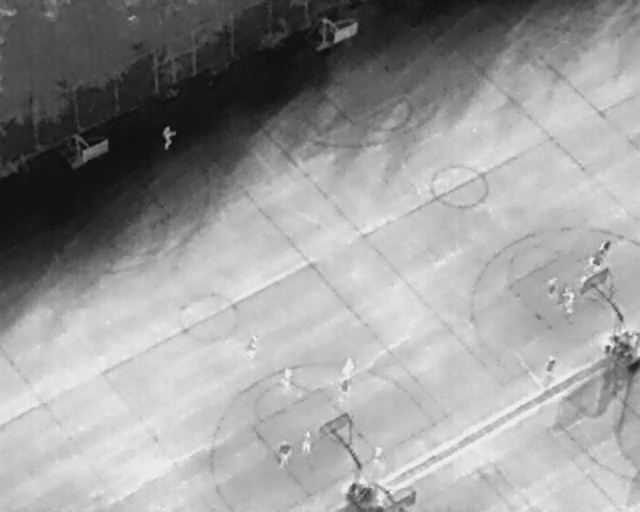Person: (272, 437, 295, 471), (240, 331, 263, 363), (557, 282, 578, 314), (592, 235, 615, 262), (539, 351, 561, 378), (339, 354, 359, 381), (542, 270, 562, 297), (368, 441, 389, 466), (278, 364, 296, 391), (161, 124, 177, 153), (298, 427, 315, 454), (335, 374, 353, 399), (587, 254, 604, 272)
